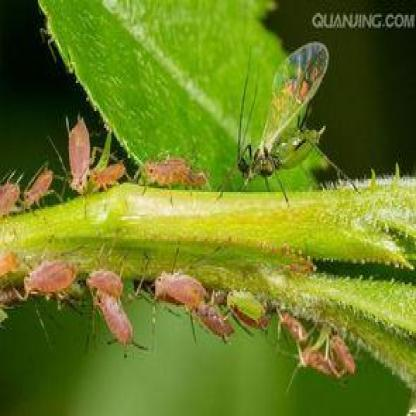aphid: (221, 37, 342, 202), (138, 148, 210, 206), (17, 241, 76, 310), (94, 290, 153, 357), (281, 312, 335, 376), (151, 252, 206, 306), (61, 113, 94, 201), (80, 251, 130, 300), (26, 161, 68, 217), (322, 319, 359, 382), (218, 282, 272, 324), (188, 289, 235, 337), (90, 154, 130, 197), (0, 168, 27, 225)
